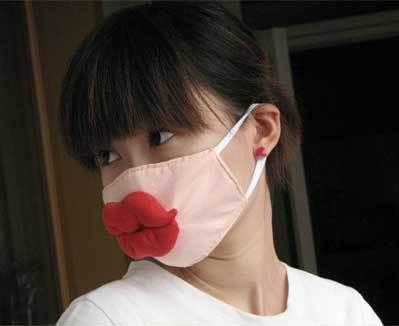OK: (88, 107, 249, 263)
